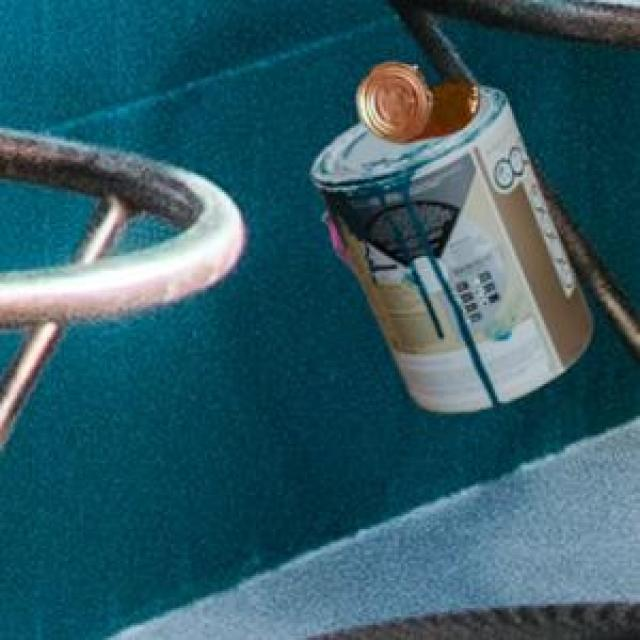Can: (308, 84, 590, 409), (355, 59, 475, 140), (319, 208, 353, 270)
